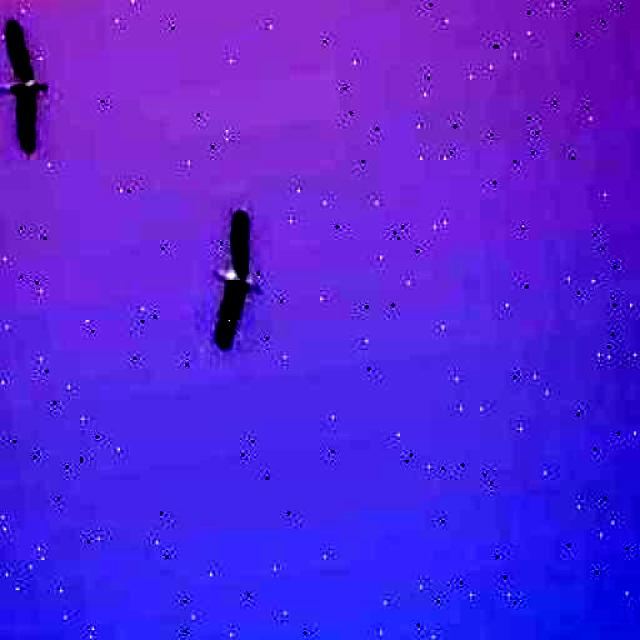airplane: (195, 205, 271, 349), (0, 19, 59, 158)
